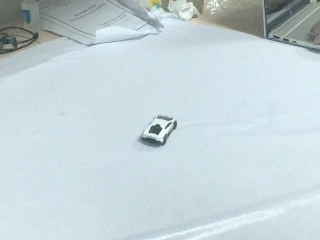bottle: (21, 1, 41, 33)
toy_car: (141, 115, 177, 145)
